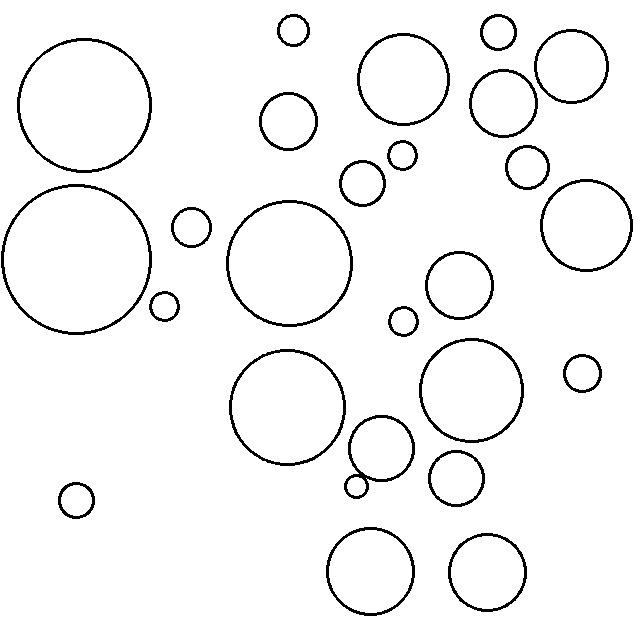circle: (3, 182, 156, 336), (18, 35, 153, 175), (225, 197, 356, 327), (228, 348, 348, 466), (417, 335, 528, 444), (537, 178, 635, 274), (358, 31, 451, 126), (325, 526, 417, 617), (446, 532, 530, 613), (533, 27, 610, 104), (469, 66, 540, 140), (424, 252, 498, 322), (350, 414, 416, 483), (257, 92, 321, 154), (428, 447, 488, 508), (336, 157, 388, 209), (506, 143, 550, 192), (171, 206, 213, 250), (478, 11, 520, 53), (564, 351, 603, 396), (59, 479, 96, 520), (275, 11, 313, 49), (388, 303, 420, 337), (388, 139, 419, 173), (150, 290, 182, 322), (343, 472, 370, 500)
